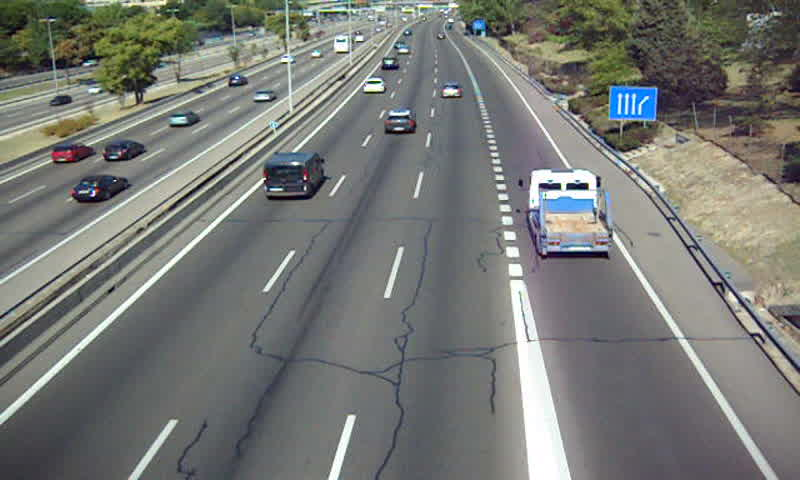car: (384, 110, 414, 135), (440, 82, 463, 101), (362, 77, 385, 94), (380, 55, 399, 71)
small-truck: (528, 170, 616, 253)
van: (264, 152, 324, 199)
